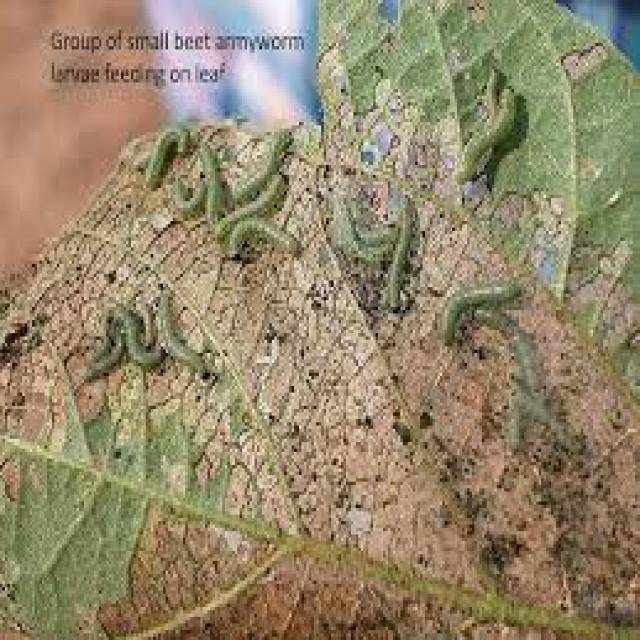armyworm: (143, 125, 305, 205), (87, 290, 219, 387), (459, 67, 534, 185), (468, 304, 555, 403), (433, 273, 523, 354), (213, 168, 292, 251), (377, 193, 424, 315), (228, 214, 306, 271)
